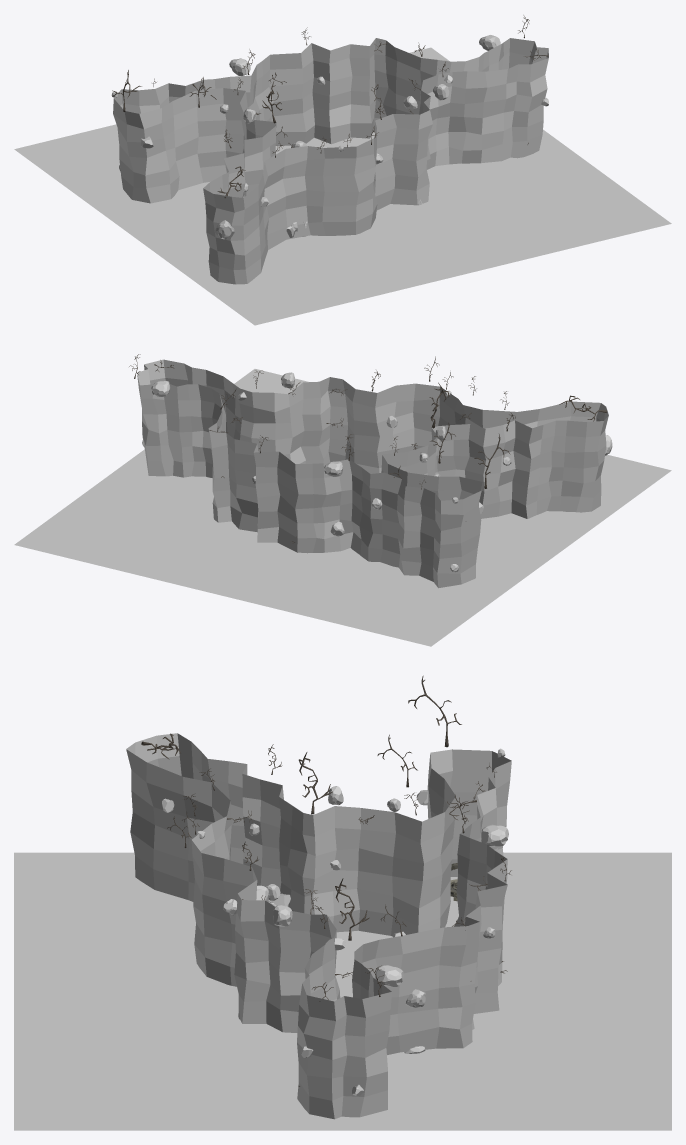
The model's file is SceneMivo.fbx.
3 views of the same model, one above another, from view 1: azimuth 30°, elevation 25°; view 2: azimuth 150°, elevation 25°; view 3: azimuth 270°, elevation 25° (orthographic). The views are drawn at different scales.
Visible parts, largest first — view 1: Acantilado, SueloLP; view 2: Acantilado, SueloLP; view 3: SueloLP, Acantilado.
Boxes of the visible parts, <box> form: Acantilado: <box>113,38,548,284</box>; SueloLP: <box>14,47,671,325</box>; Acantilado: <box>137,359,608,588</box>; SueloLP: <box>14,369,671,646</box>; SueloLP: <box>14,852,671,1130</box>; Acantilado: <box>126,733,511,1119</box>.
Bounding box in the file's own units: 11190 × 3794 × 11190.
